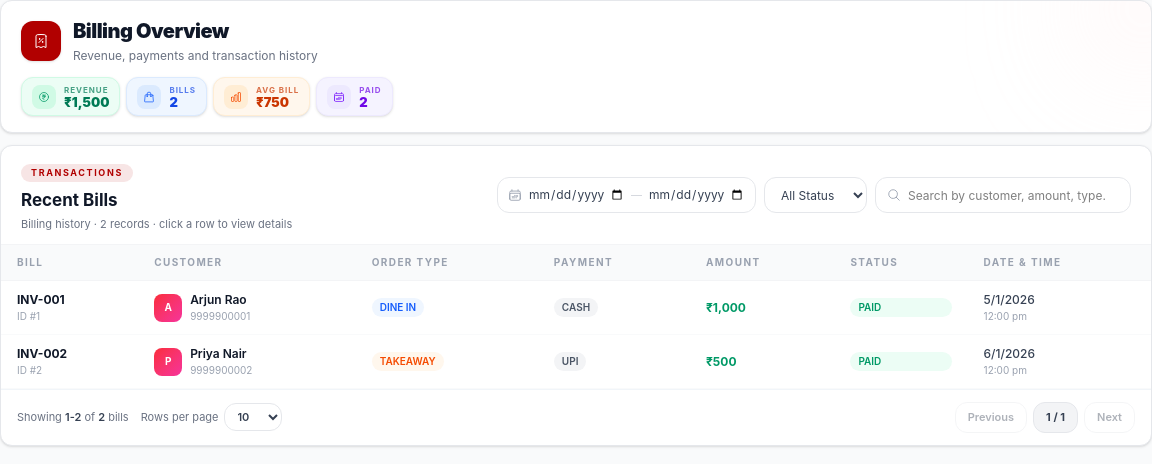
Scenario: Bills page › search narrows the bill list to matching customers
The width and height of the screenshot is (1152, 464).
Expected: the text "INV-001" is shown, [17, 292, 65, 307]
Type "Priya" into the search field with placeholder "Search by customer, amount, type..." at {"x": 1003, "y": 195}, box [875, 177, 1131, 213]
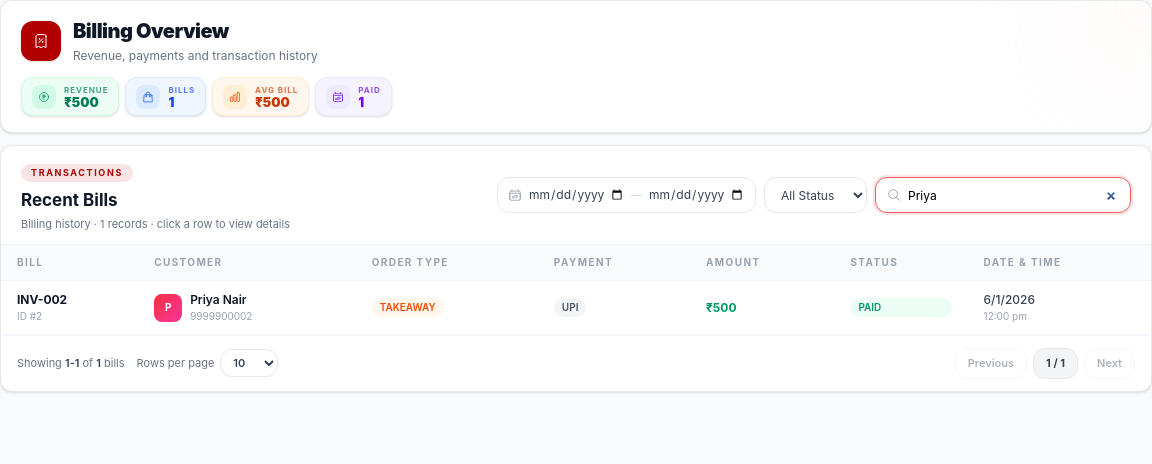
Expected: the text "INV-002" is shown, [17, 292, 67, 307]
Result: the text "INV-001" is gone
